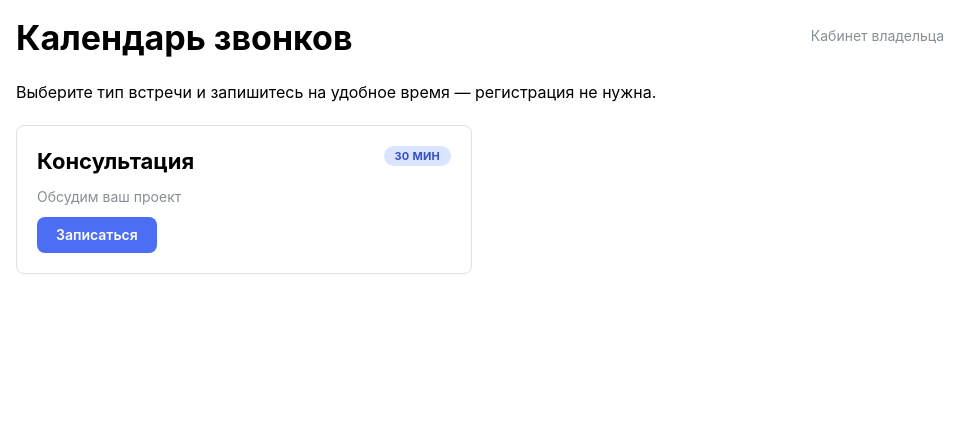
it: HomePage › leads the guest to the booking page of the chosen event type
What coordinates should you click on to do the following:
click the link "Записаться"
I would click on:
 (97, 235)
Its box is [37,217,157,253].
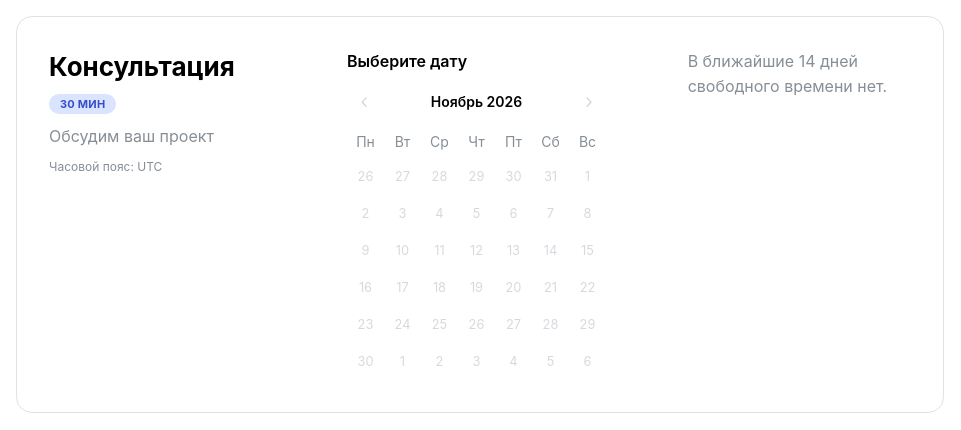
Result: the text "Выберите дату" is shown at [347,51,467,71]
